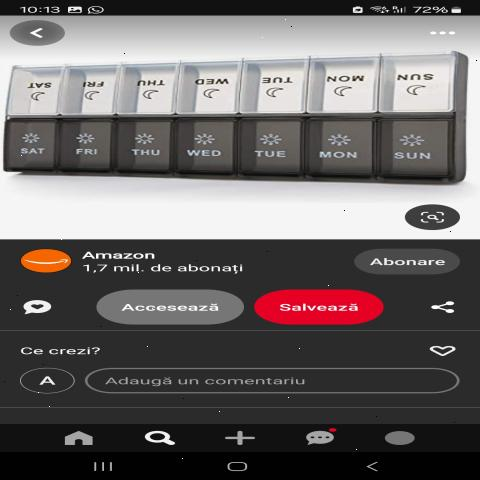PillBox: (6, 50, 480, 196)
